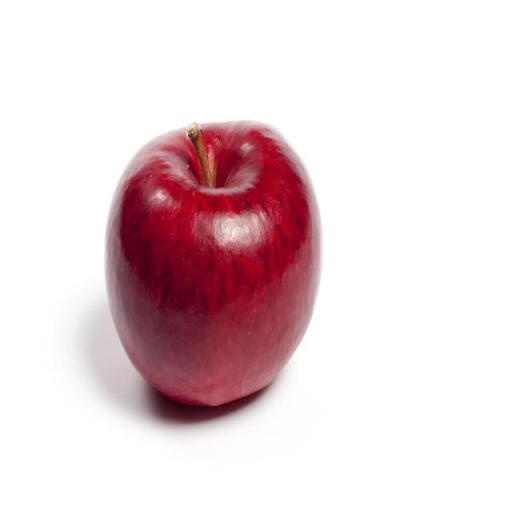fruit: (107, 122, 320, 405)
